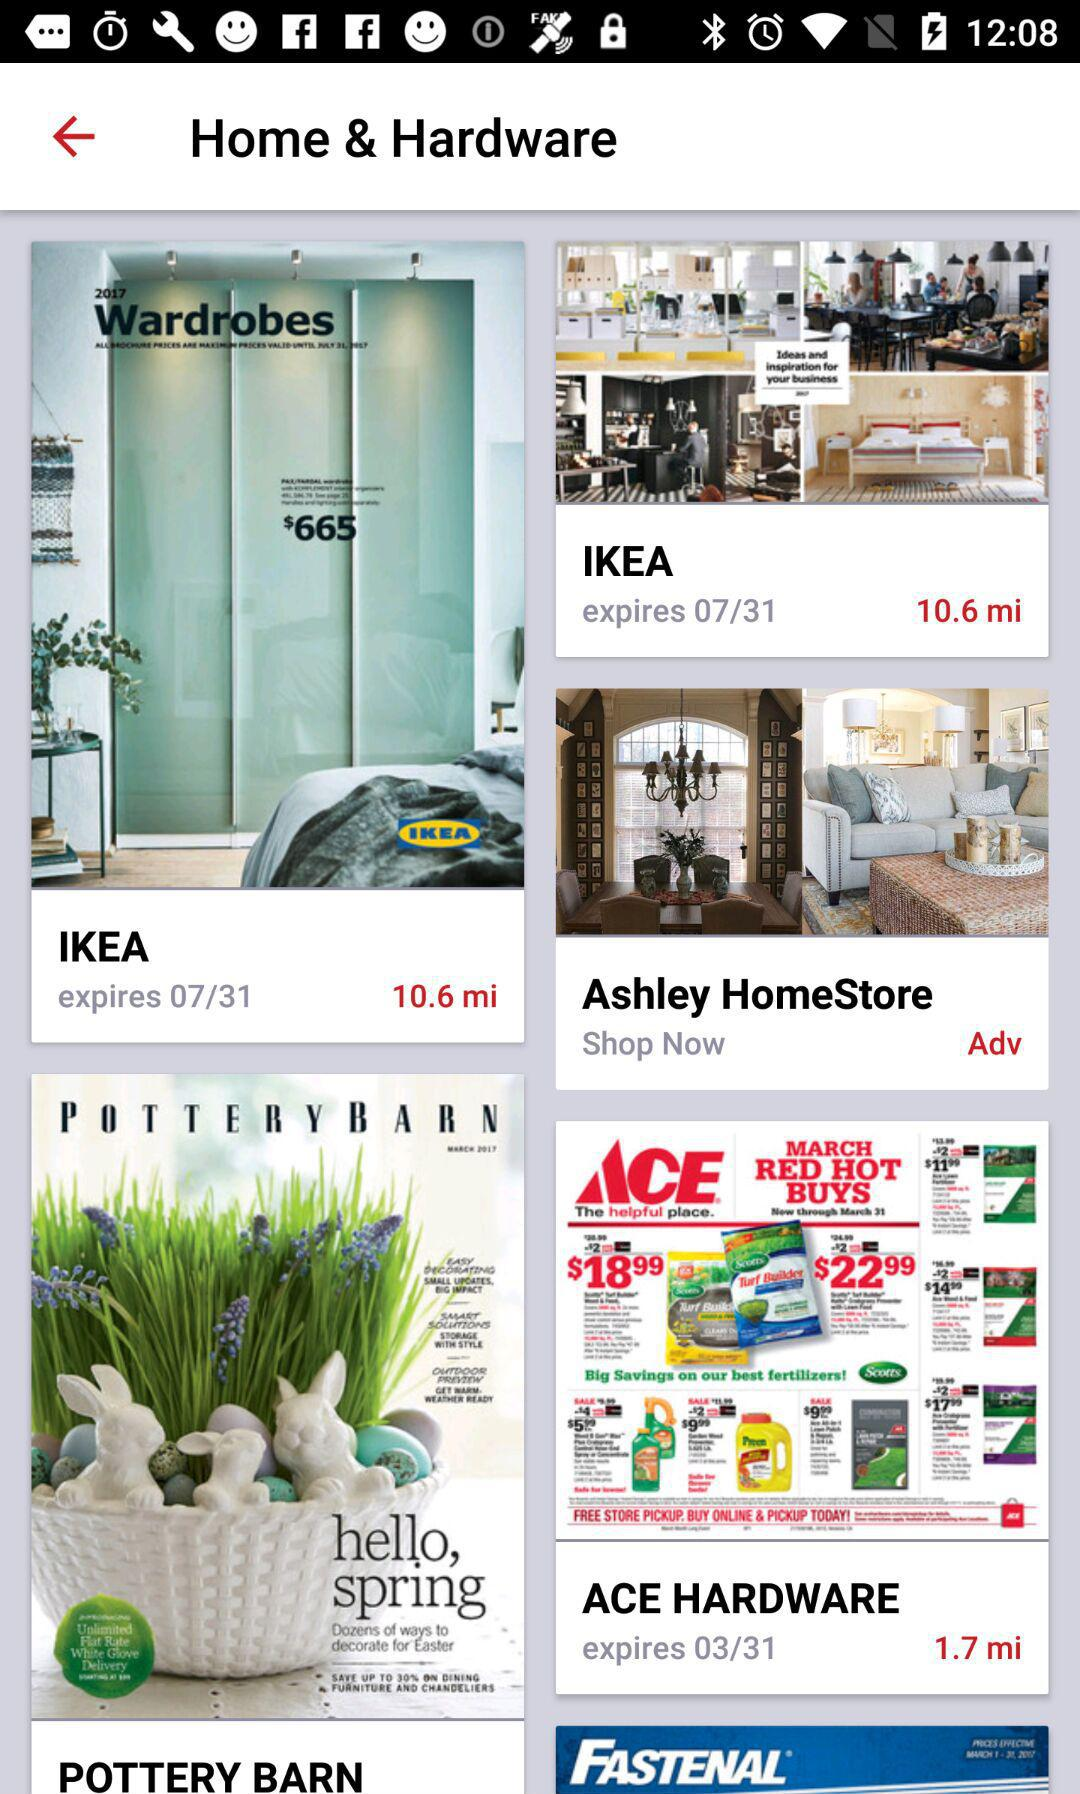Icon: (53, 117, 97, 160)
Image: (31, 241, 525, 891), (32, 1074, 524, 1722), (556, 1121, 1049, 1542), (555, 243, 1049, 506), (556, 689, 1049, 938), (556, 1725, 1048, 1794)
Text: (192, 117, 619, 160), (582, 974, 934, 1020), (582, 1579, 901, 1616), (59, 1758, 364, 1794), (582, 1633, 775, 1668), (59, 982, 251, 1016), (582, 596, 774, 630), (580, 1028, 728, 1065), (915, 596, 1022, 627), (584, 545, 675, 578), (60, 930, 151, 964), (393, 983, 498, 1010), (934, 1633, 1022, 1663), (966, 1028, 1024, 1058)
Toolbar: (1, 65, 1080, 211)
UpperTaskBar: (1, 1, 1080, 64)
